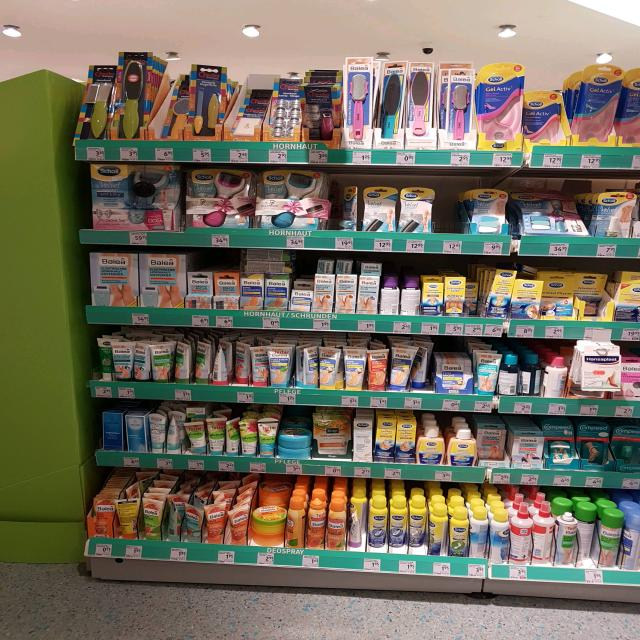empty: (434, 184, 475, 241)
